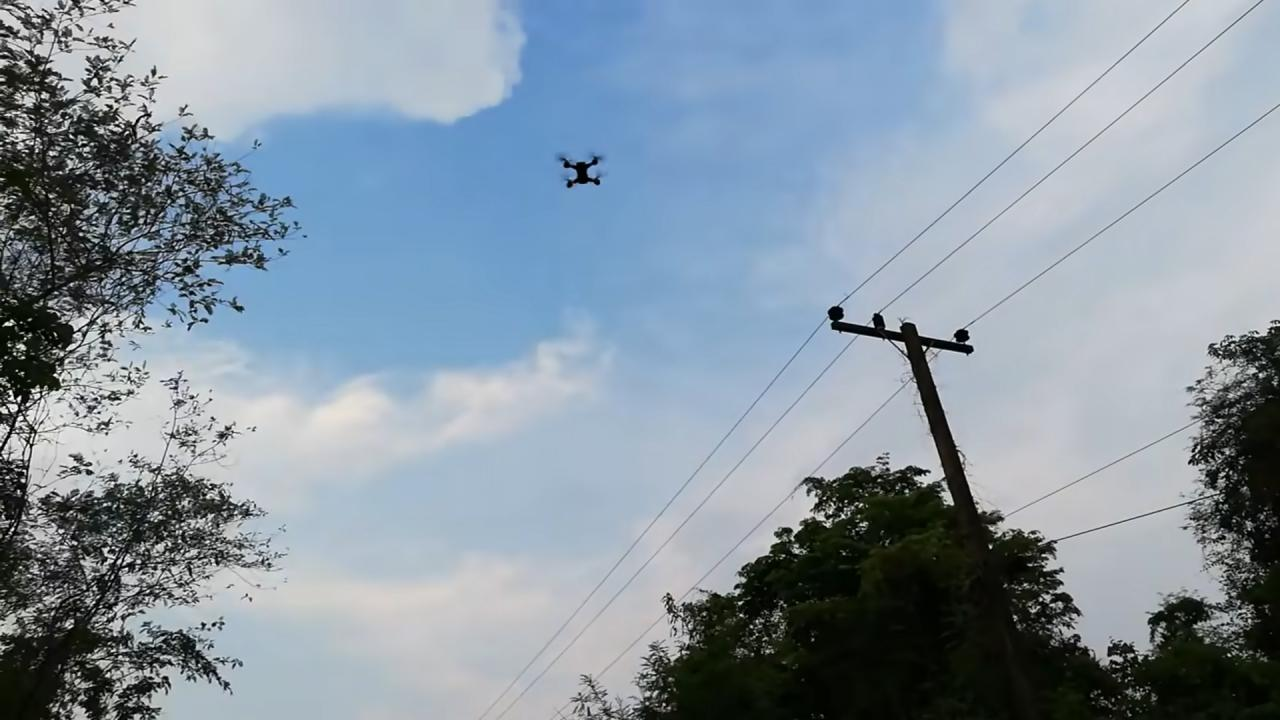Drone: (549, 145, 613, 198)
